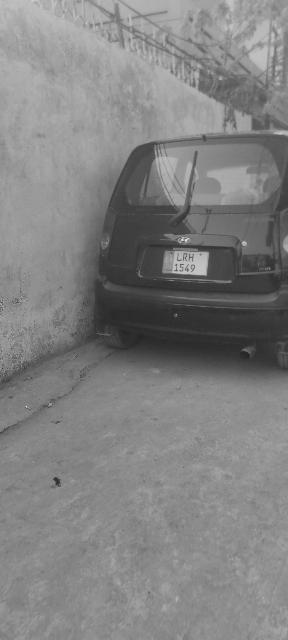Number: (173, 253, 197, 274)
